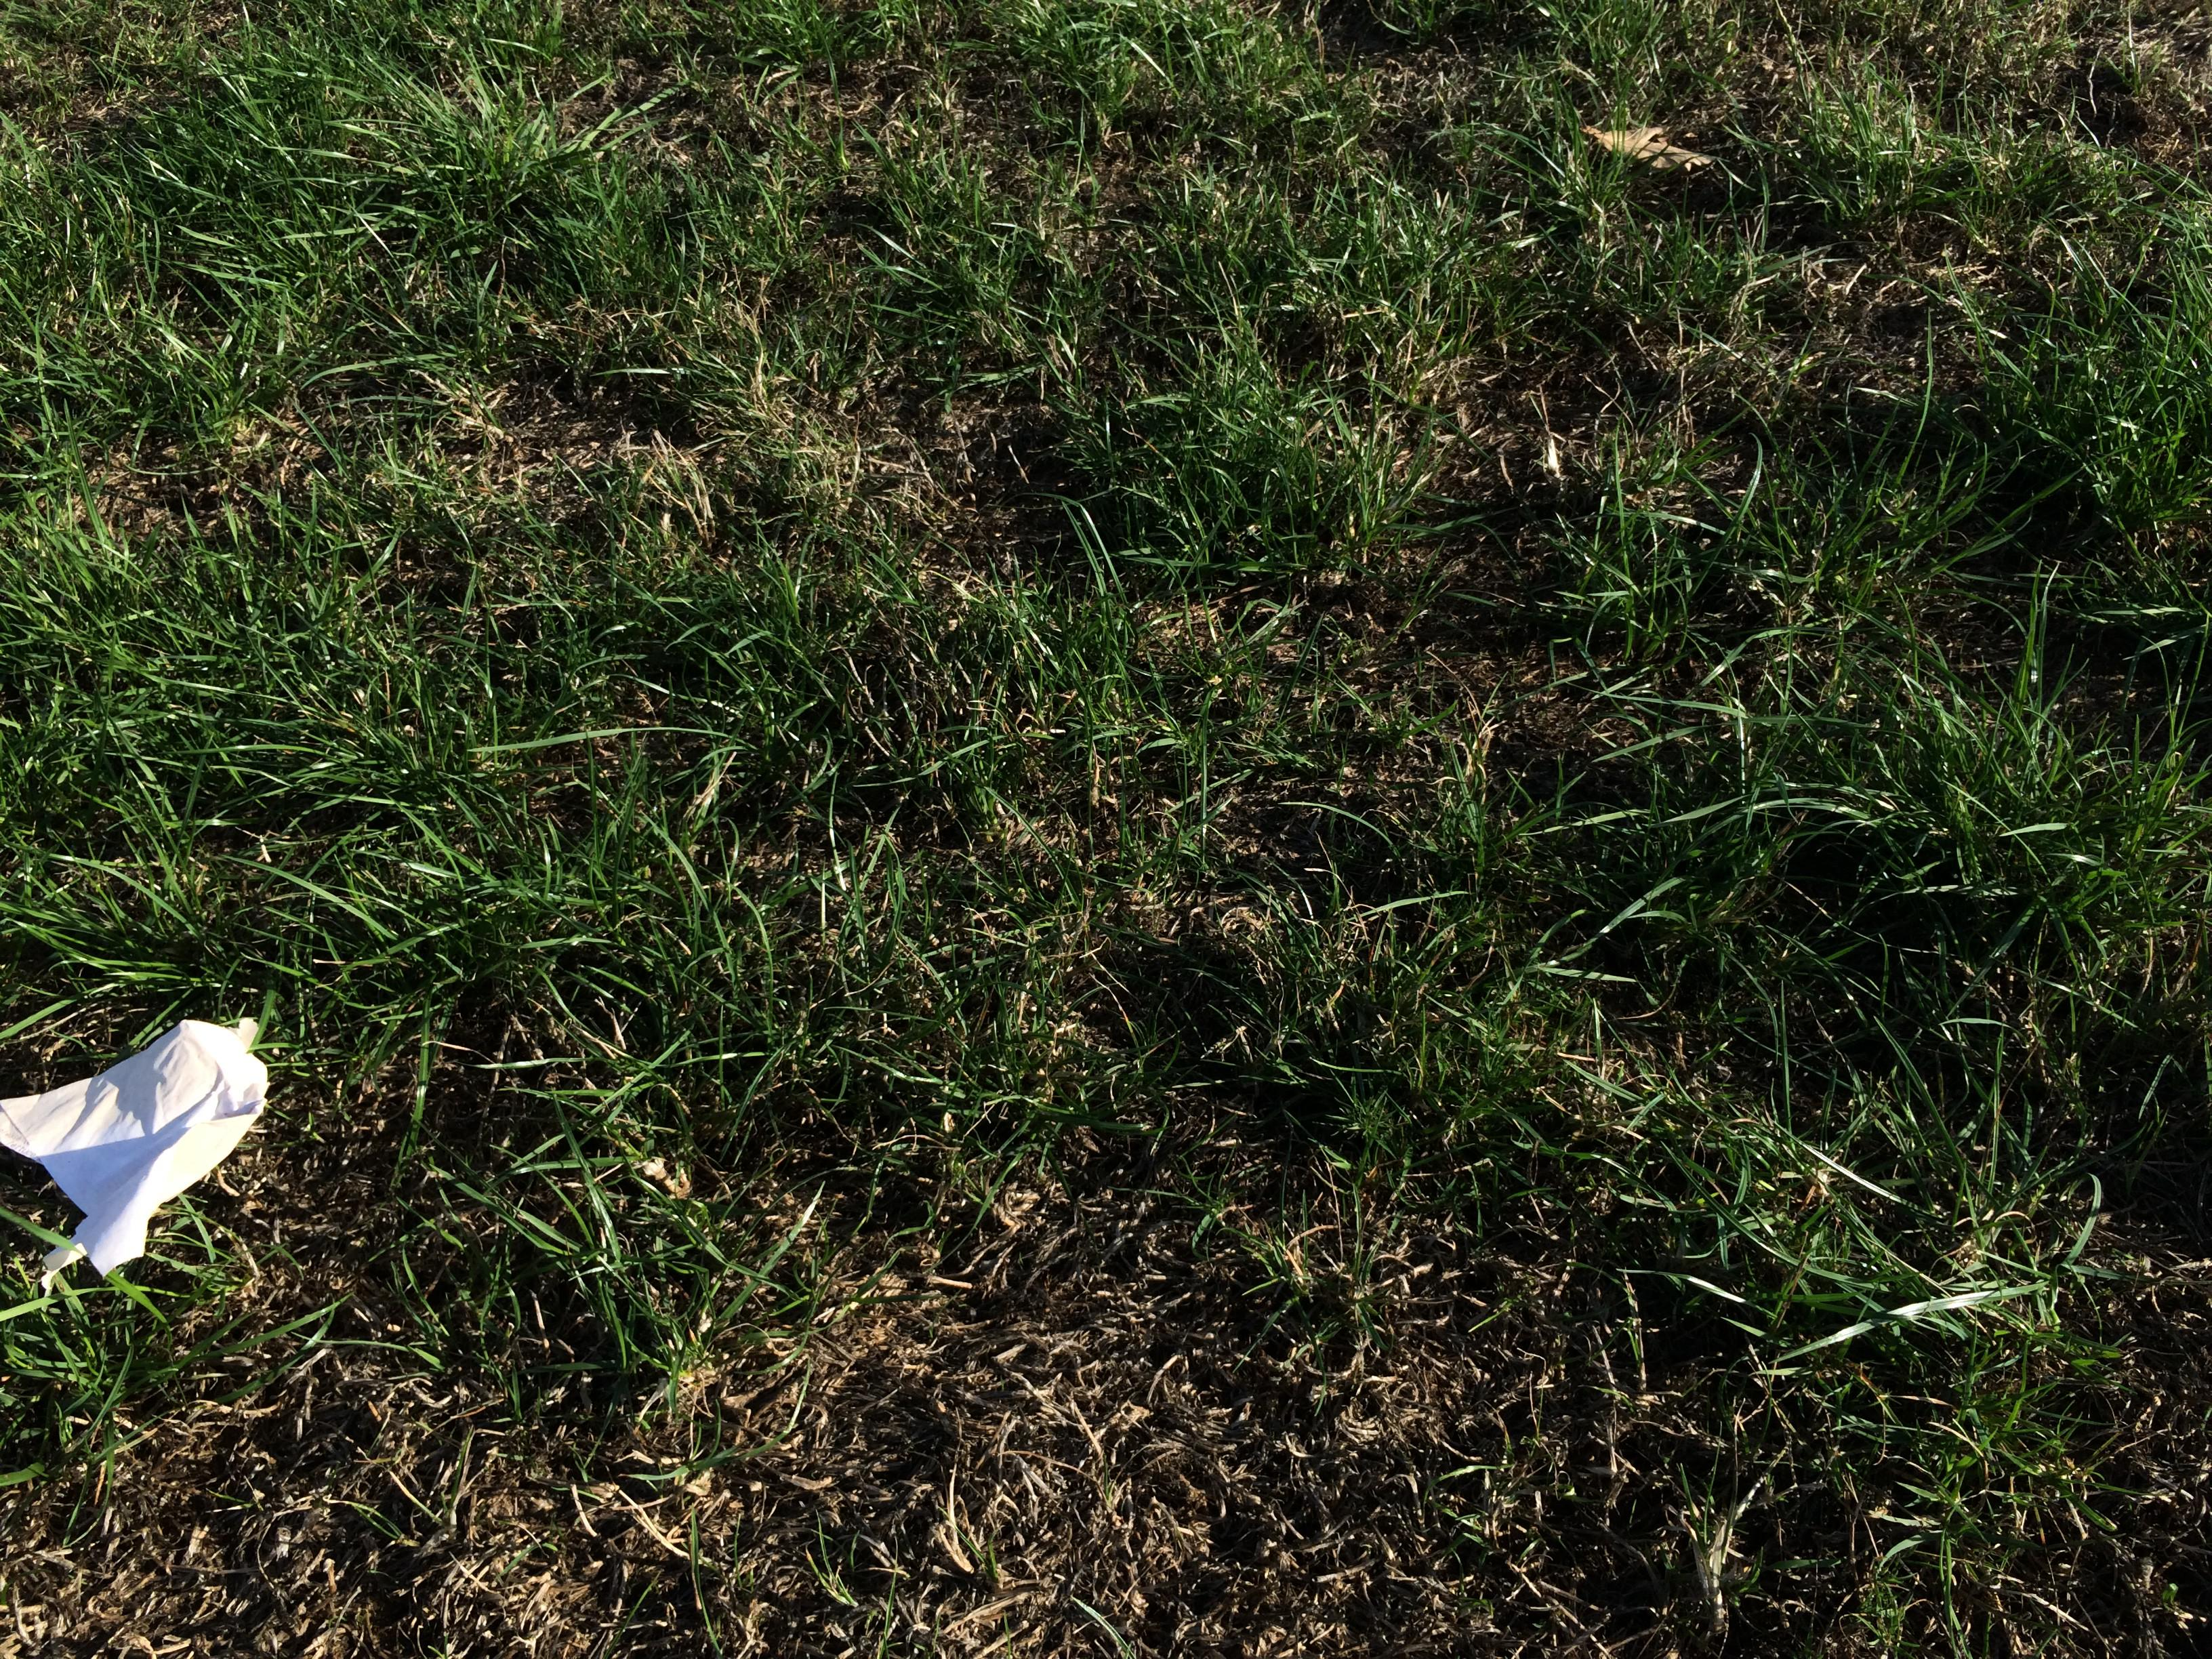Trash: (0, 1012, 266, 1265)
